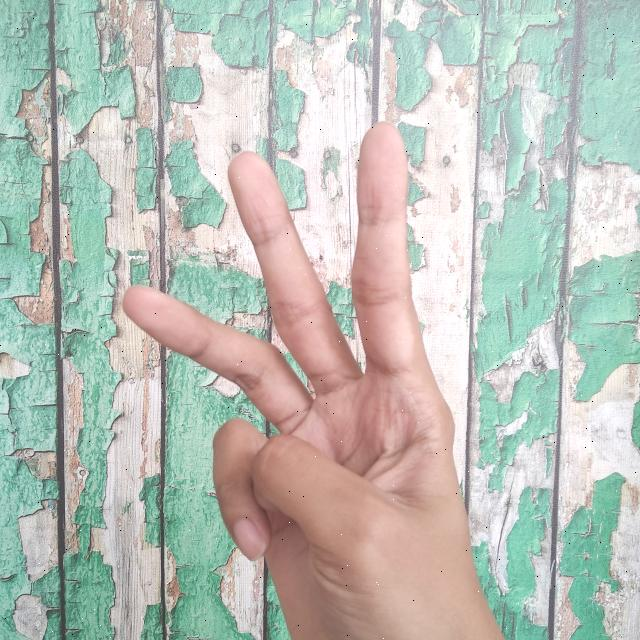W: (126, 113, 510, 640)
